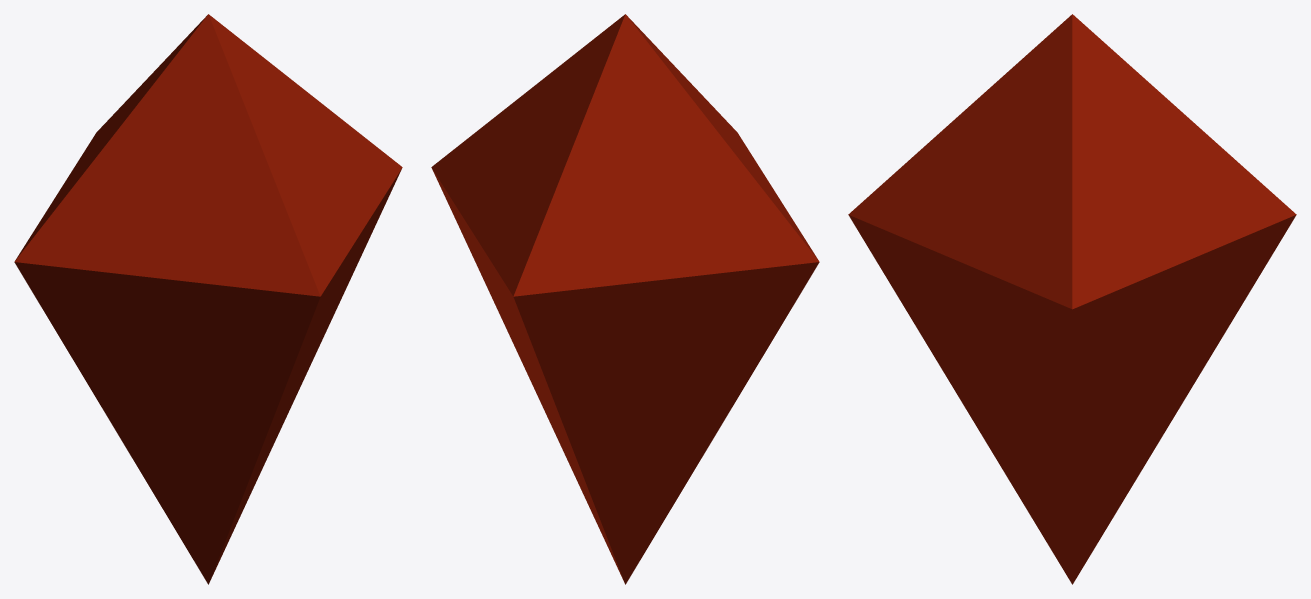
File: SelectionIcon.fbx
3 renders of one model, left to right at view 1: azimuth 30°, elevation 25°; view 2: azimuth 150°, elevation 25°; view 3: azimuth 270°, elevation 25°, orthographic.
Parts seen in each view (by area): view 1: pCube1; view 2: pCube1; view 3: pCube1.
Part boxes in pixels (x1,y1,x2,y2): pCube1: (14,14,402,584); pCube1: (431,14,819,584); pCube1: (848,14,1296,584).
Bounding box in the file's own units: 35.59 × 50 × 35.59.
